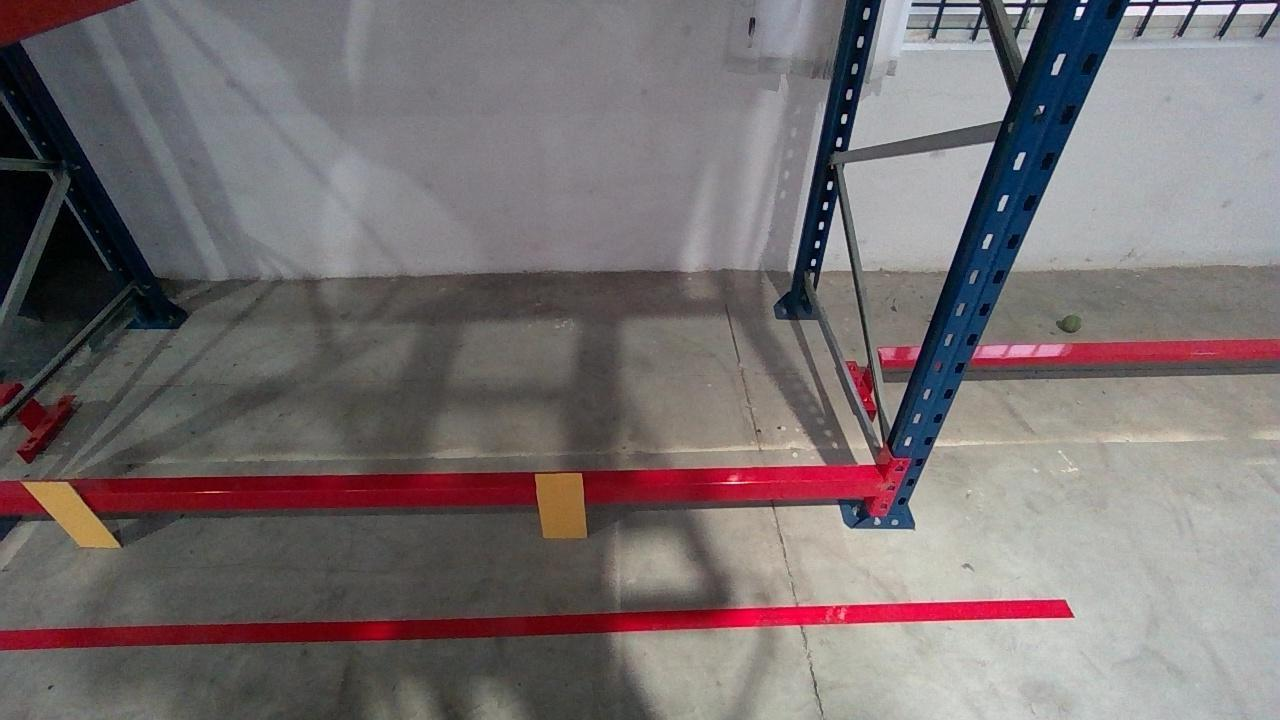h_rack: (3, 475, 886, 511)
orange_strip: (17, 480, 123, 547), (531, 472, 587, 537)
red_line: (2, 597, 1068, 646)
